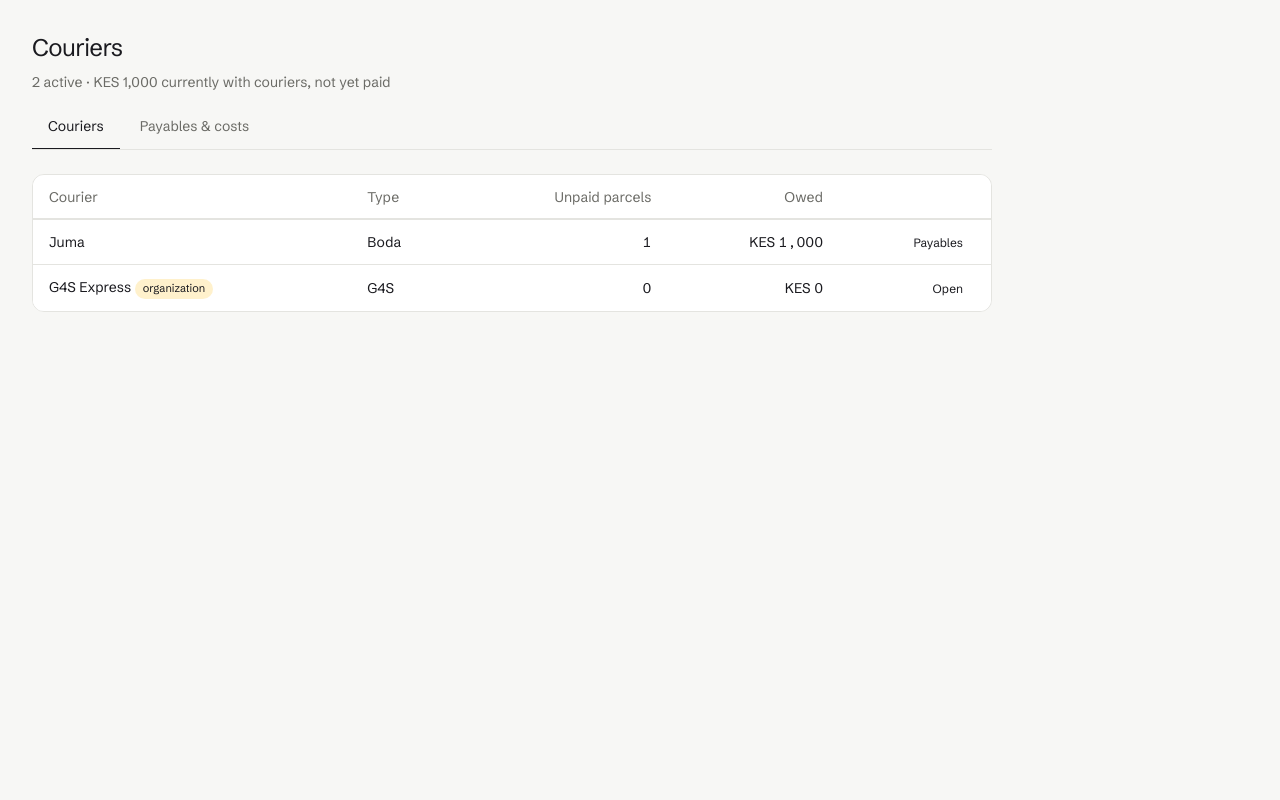
Test case: Couriers page › opens a rider on the payables tab with rider tabs only
This screenshot has width=1280, height=800.
Click the button "Payables" at (938, 243), box left=913, top=235, right=963, bottom=251
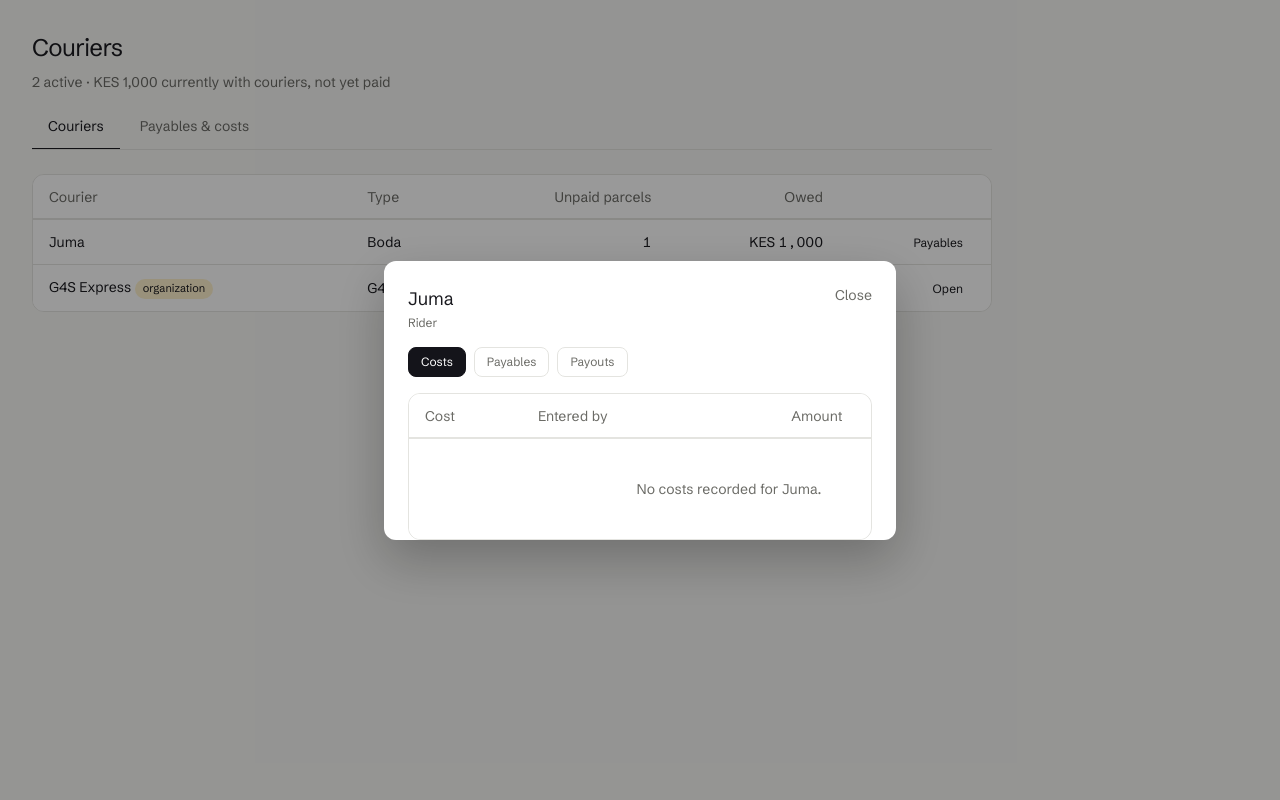
Check: the tab "Costs" is shown, box left=408, top=346, right=466, bottom=376
Check: the tab "Payables" is shown, box left=474, top=346, right=549, bottom=376
Check: the tab "Payouts" is shown, box left=557, top=346, right=628, bottom=376
